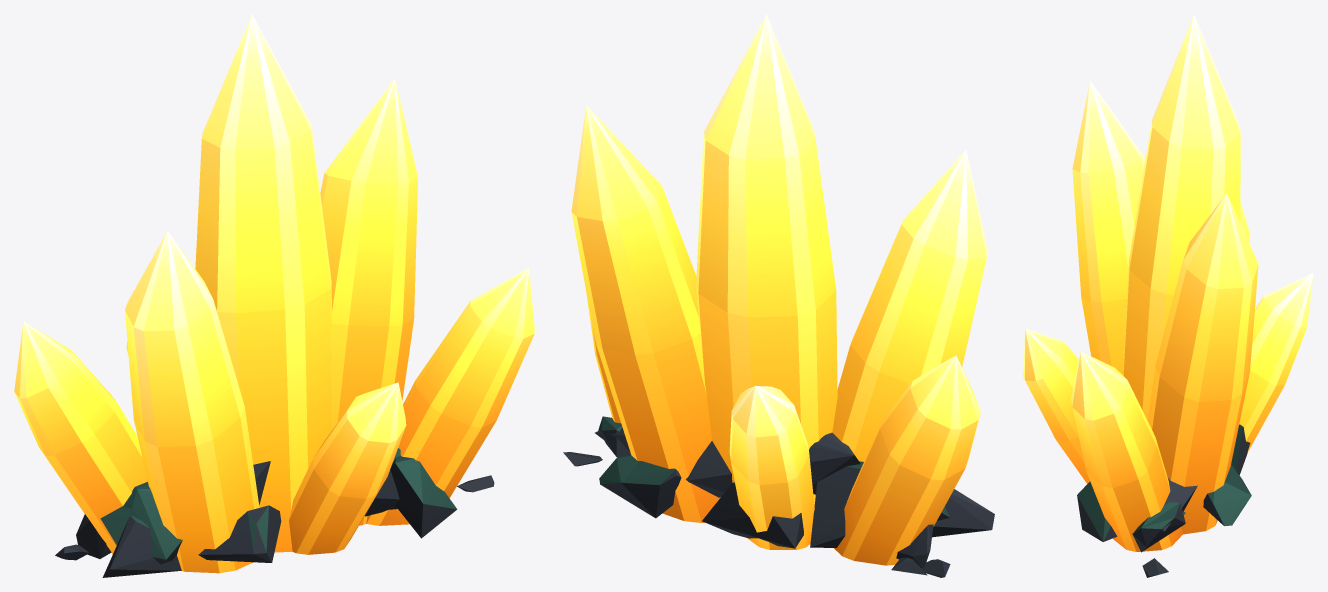
Rendered from crystal_a.glb.
3 renders of one model, left to right at view 1: azimuth 30°, elevation 25°; view 2: azimuth 150°, elevation 25°; view 3: azimuth 270°, elevation 25°, orthographic. The views are drawn at different scales.
Visible parts, largest first — view 1: crystal_a; view 2: crystal_a; view 3: crystal_a.
Boxes of the visible parts, <box> form: crystal_a: <box>14,14,534,577</box>; crystal_a: <box>563,14,994,577</box>; crystal_a: <box>1023,14,1313,577</box>.
Size of the model in its own units: 1.89 by 2.04 by 1.15.
2 materials, 2 textured.
